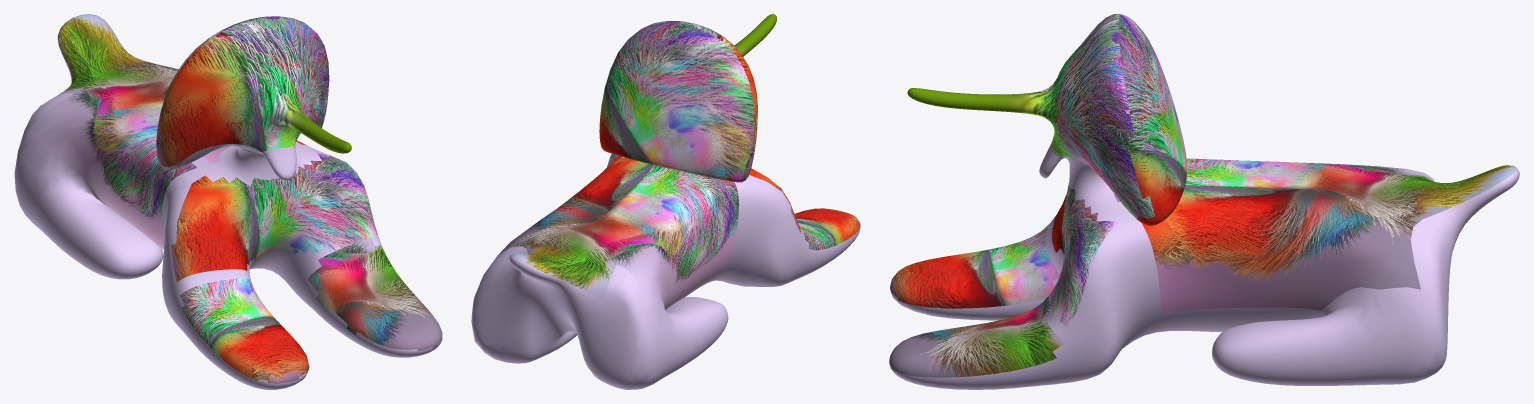
Rendered from Sphinx_Texture.fbx.
3 renders of one model, left to right at view 1: azimuth 30°, elevation 25°; view 2: azimuth 150°, elevation 25°; view 3: azimuth 270°, elevation 25°, orthographic. The views are drawn at different scales.
Parts seen in each view (by area): view 1: sphinx_v2_simplified:Mesh; view 2: sphinx_v2_simplified:Mesh; view 3: sphinx_v2_simplified:Mesh.
Part boxes in pixels (x1=…): sphinx_v2_simplified:Mesh: x1=14, y1=14, x2=442, y2=389; sphinx_v2_simplified:Mesh: x1=471, y1=14, x2=860, y2=389; sphinx_v2_simplified:Mesh: x1=889, y1=14, x2=1519, y2=389.
Bounding box in the file's own units: 1874 × 2520 × 4486.
Materials: 1 (1 with a texture image).
